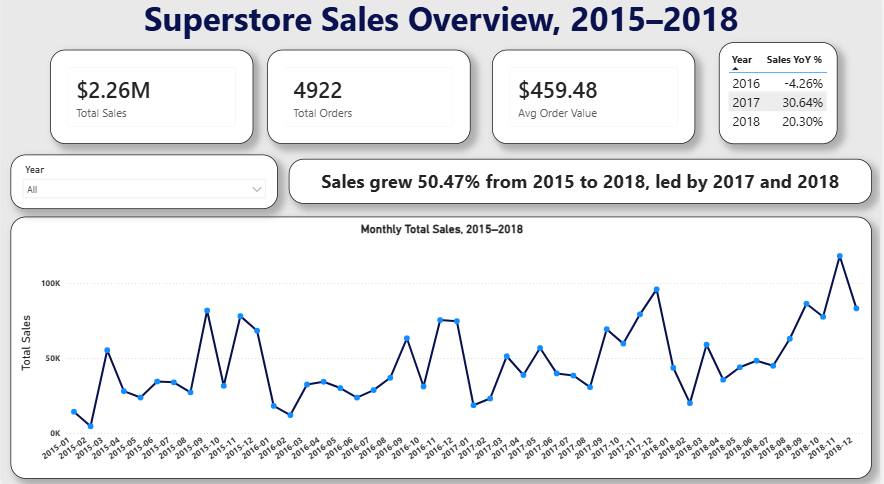

What the dashboard file says about the page in this screenshot:
{"tool":"powerbi","page":{"name":"1. Overview","canvas":[1280,720],"ordinal":0},"visuals":[{"type":"textbox","box":[12.5,0,1256.2,82.7],"z":0},{"type":"cardVisual","fields":{"Data":["_Measures.Total Sales"]},"box":[70.2,82.7,296.5,137.3],"z":1000},{"type":"cardVisual","fields":{"Data":["_Measures.Total Orders"]},"box":[387,82.7,296.5,137.3],"z":2000},{"type":"cardVisual","fields":{"Data":["_Measures.Avg Order Value"]},"box":[714.7,82.7,296.5,137.3],"z":3000},{"type":"lineChart","title":"Monthly Total Sales, 2015–2018","fields":{"Y":["_Measures.Total Sales"],"Category":["Date.YearMonth"]},"box":[12.5,326.1,1256.2,382.3],"z":4000},{"type":"textbox","box":[418.2,241.9,850.4,65.5],"z":5000},{"type":"slicer","fields":{"Values":["Date.Year"]},"box":[12.5,235.6,390.1,79.6],"z":6000},{"type":"tableEx","fields":{"Values":["Date.Year","_Measures.Sales YoY %"]},"box":[1045.5,71.8,173.2,148.2],"z":7000}]}

Visuals, with their boxes in screenshot pixels (x1, y1, x2, y2), scaled from the page's 1280x720 canvas onto the 884x484 screenshot:
textbox: [9, 0, 876, 56]
cardVisual - _Measures.Total Sales: [48, 56, 253, 148]
cardVisual - _Measures.Total Orders: [267, 56, 472, 148]
cardVisual - _Measures.Avg Order Value: [494, 56, 698, 148]
"Monthly Total Sales, 2015–2018" lineChart: [9, 219, 876, 476]
textbox: [289, 163, 876, 207]
slicer - Date.Year: [9, 158, 278, 212]
tableEx - Date.Year x _Measures.Sales YoY %: [722, 48, 842, 148]
